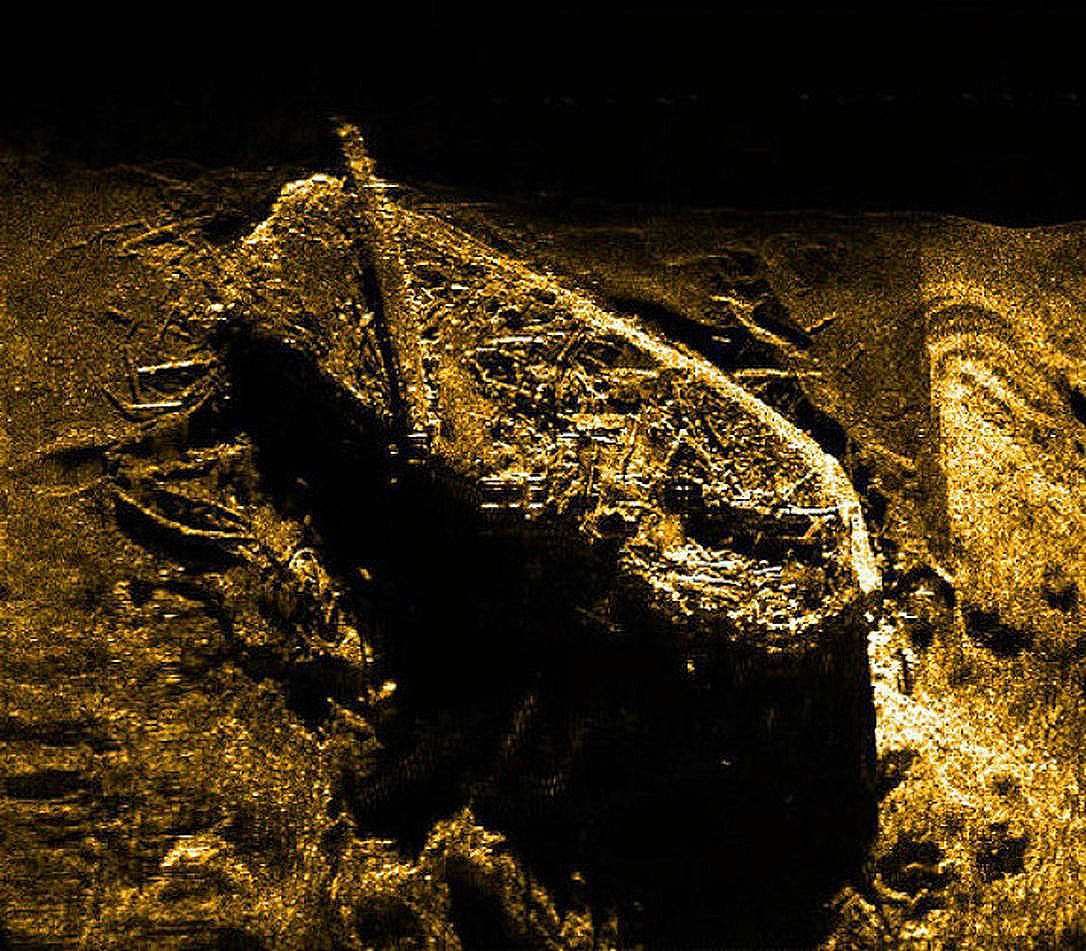ship: (208, 118, 889, 665)
